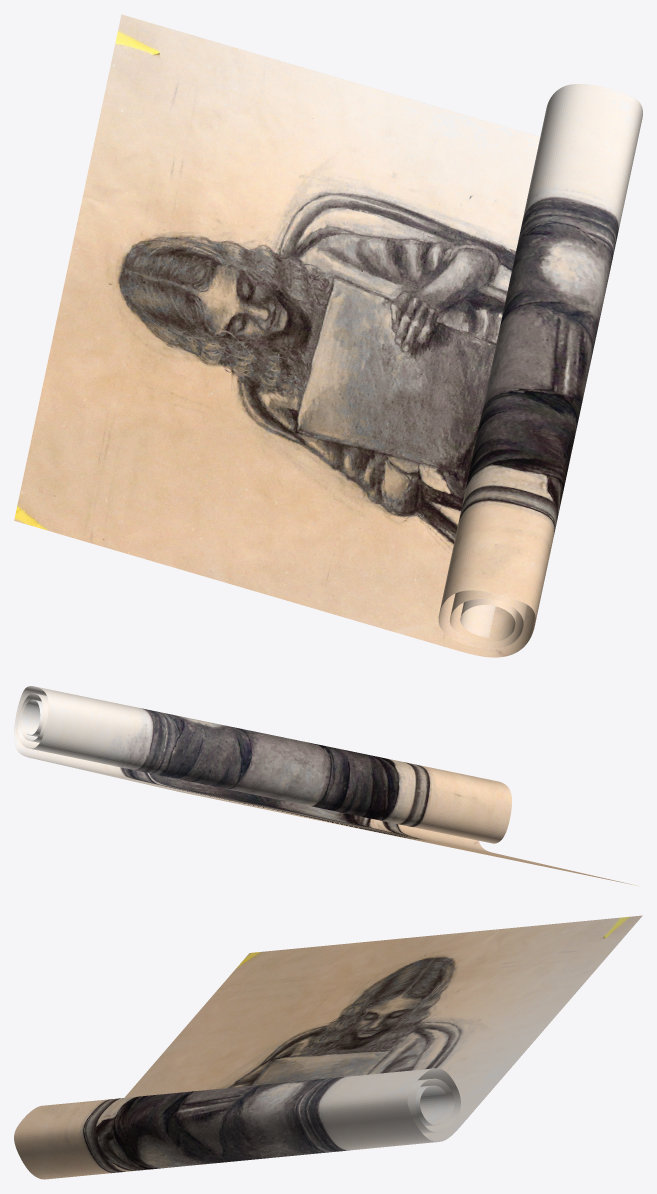
Rendered from rolna.glb.
The picture shows the model from 3 angles, top to bottom: view 1: azimuth 30°, elevation 25°; view 2: azimuth 150°, elevation 25°; view 3: azimuth 270°, elevation 25°; orthographic projection. The views are drawn at different scales.
Parts seen in each view (by area): view 1: modeli; view 2: modeli; view 3: modeli.
Part boxes in pixels (x1,y1,x2,y2): modeli: [14, 14, 642, 657]; modeli: [14, 686, 636, 885]; modeli: [14, 915, 642, 1179].
Size of the model in its own units: 6.33 by 2.91 by 6.16.
Materials: 1 (1 with a texture image).
